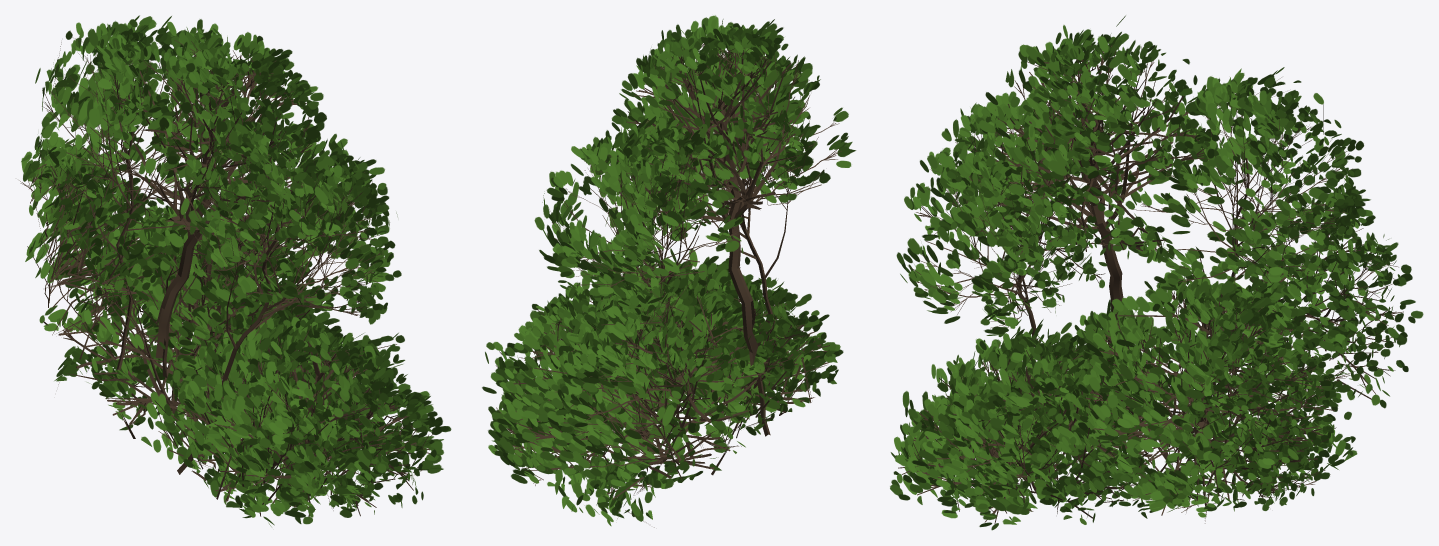
The picture shows the model from 3 angles, left to right: view 1: azimuth 30°, elevation 25°; view 2: azimuth 150°, elevation 25°; view 3: azimuth 270°, elevation 25°; orthographic projection. The views are drawn at different scales.
Parts seen in each view (by area): view 1: oak 01.001_trunk_Mat.001_0.282; view 2: oak 01.001_trunk_Mat.001_0.282; view 3: oak 01.001_trunk_Mat.001_0.282.
Boxes of the visible parts, x1,y1,x2,y2 form: oak 01.001_trunk_Mat.001_0.282: [19, 15, 451, 526]; oak 01.001_trunk_Mat.001_0.282: [482, 15, 856, 527]; oak 01.001_trunk_Mat.001_0.282: [890, 15, 1423, 530].
Size of the model in its own units: 2.94 by 5.07 by 5.56.
2 materials, 1 textured.
